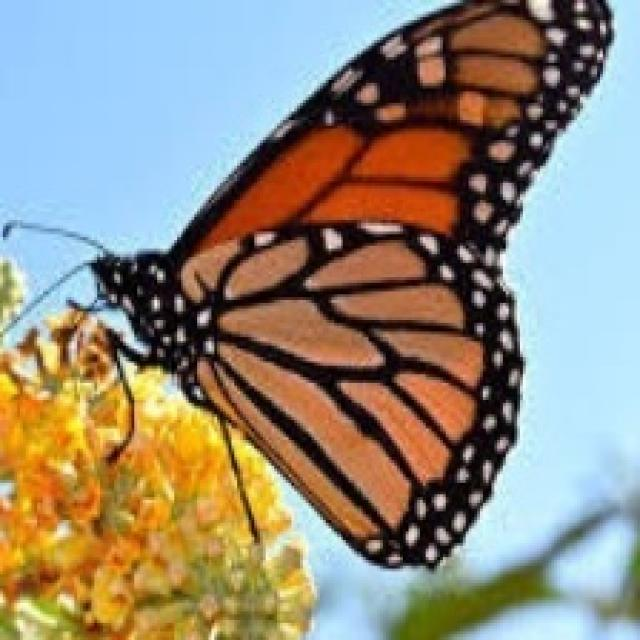butterfly: (0, 0, 614, 571)
